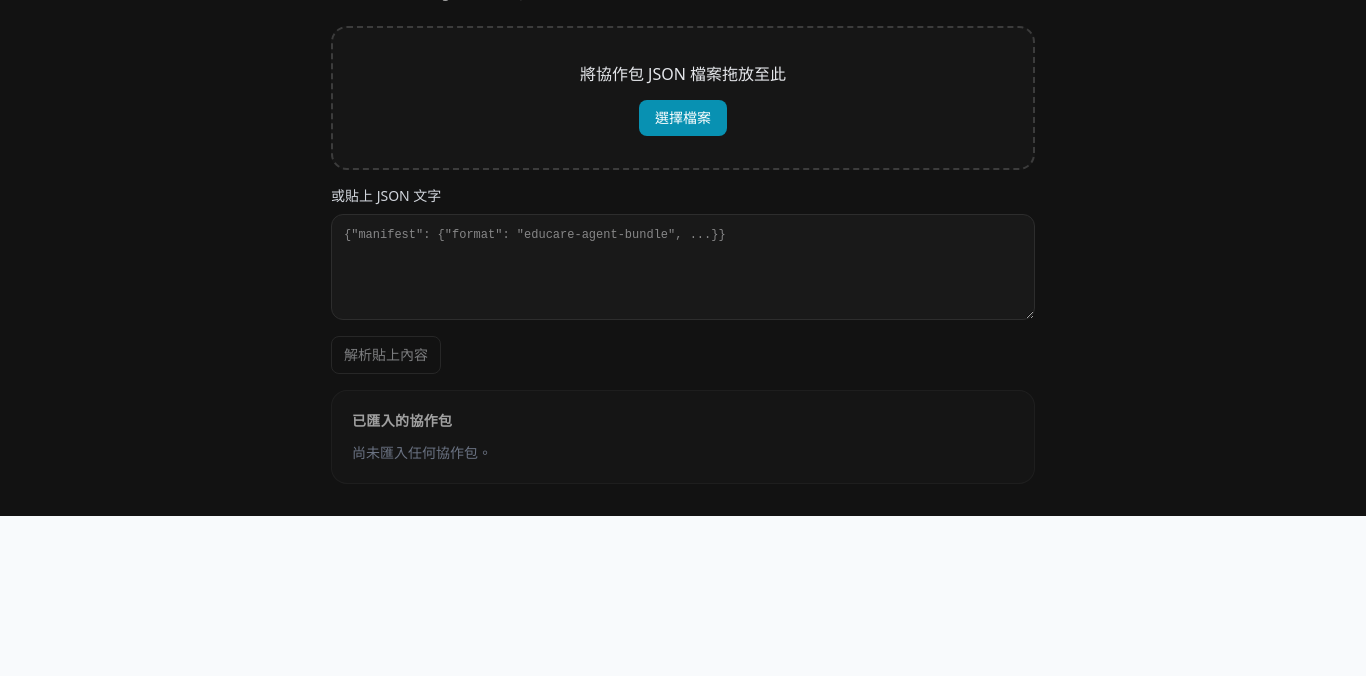
Test case: BundleImportPage › preview shows metadata, agent count, icons, knowledge size, and descriptions without exposing prompts
Type "valid" into the text box at (683, 267), box x1=331 y1=214 x2=1035 y2=320
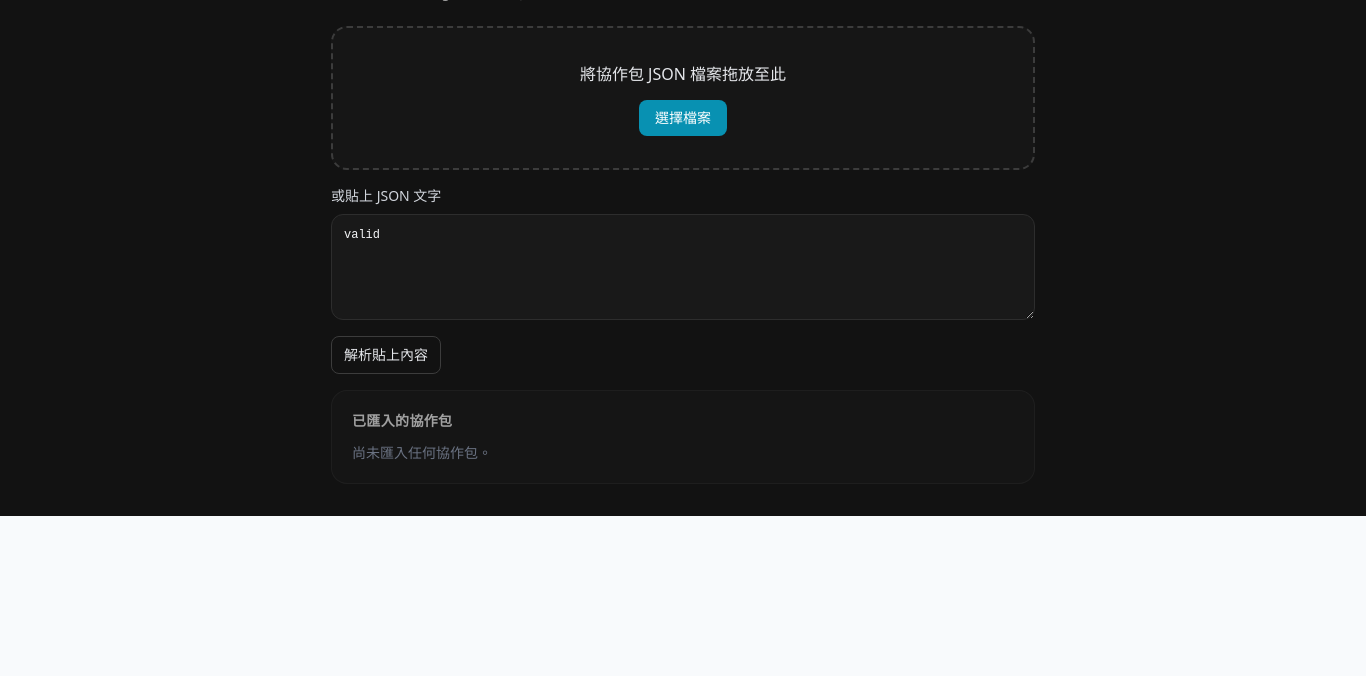
Click the button "解析貼上內容" at (386, 355), box x1=331 y1=336 x2=441 y2=374
(page scrolled)
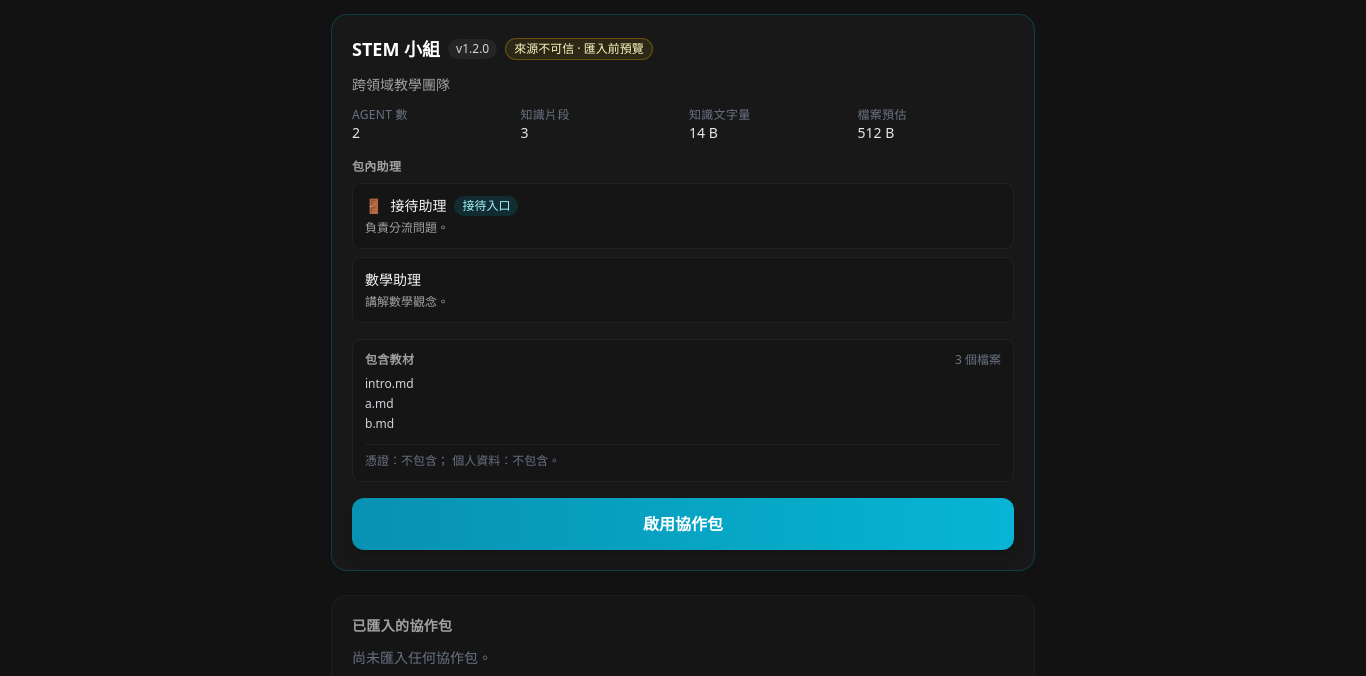
Expected: the element named "協作包預覽" shows "STEM 小組", x1=352 y1=37 x2=440 y2=61
Expected: the element named "協作包預覽" shows "v1.2.0", x1=331 y1=14 x2=1035 y2=571
Expected: the element named "協作包預覽" shows "來源不可信 · 匯入前預覽", x1=514 y1=40 x2=644 y2=57
